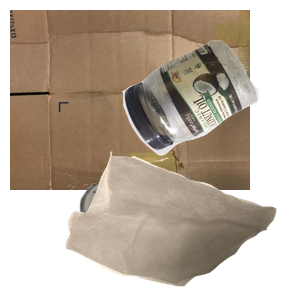cardboard: (10, 10, 250, 190)
glass: (77, 178, 205, 300)
plastic: (120, 37, 300, 185)
trash: (63, 149, 300, 300)
